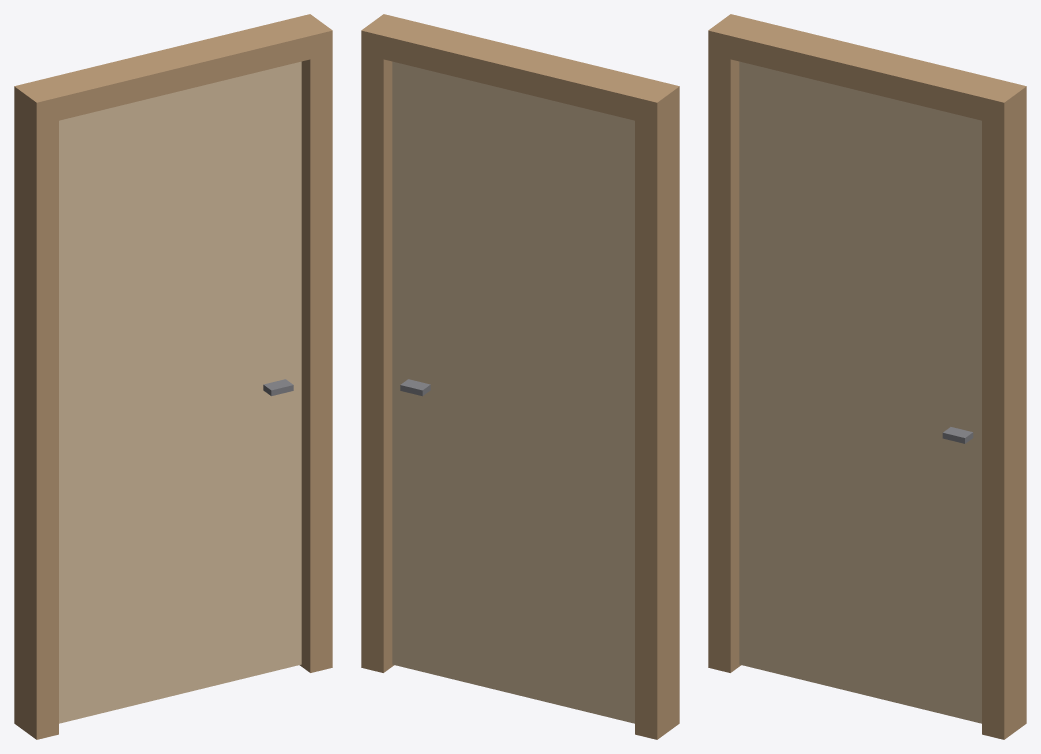
File: puerta.glb
3 renders of one model, left to right at view 1: azimuth 30°, elevation 25°; view 2: azimuth 150°, elevation 25°; view 3: azimuth 330°, elevation 25°, orthographic.
Parts seen in each view (by area): view 1: Mueble; view 2: Mueble; view 3: Mueble.
Part boxes in pixels (x1=…): Mueble: x1=14, y1=14, x2=332, y2=739; Mueble: x1=361, y1=14, x2=679, y2=739; Mueble: x1=708, y1=14, x2=1026, y2=739.
Size of the model in its own units: 1.06 by 2.18 by 0.14.
